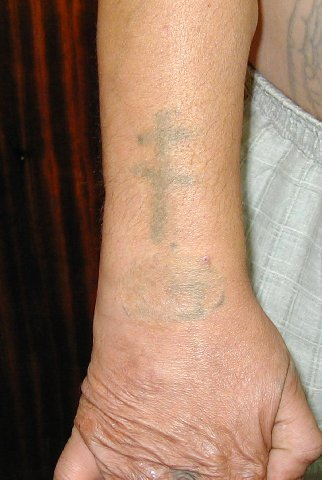tatu9_krest: (129, 99, 214, 245)
